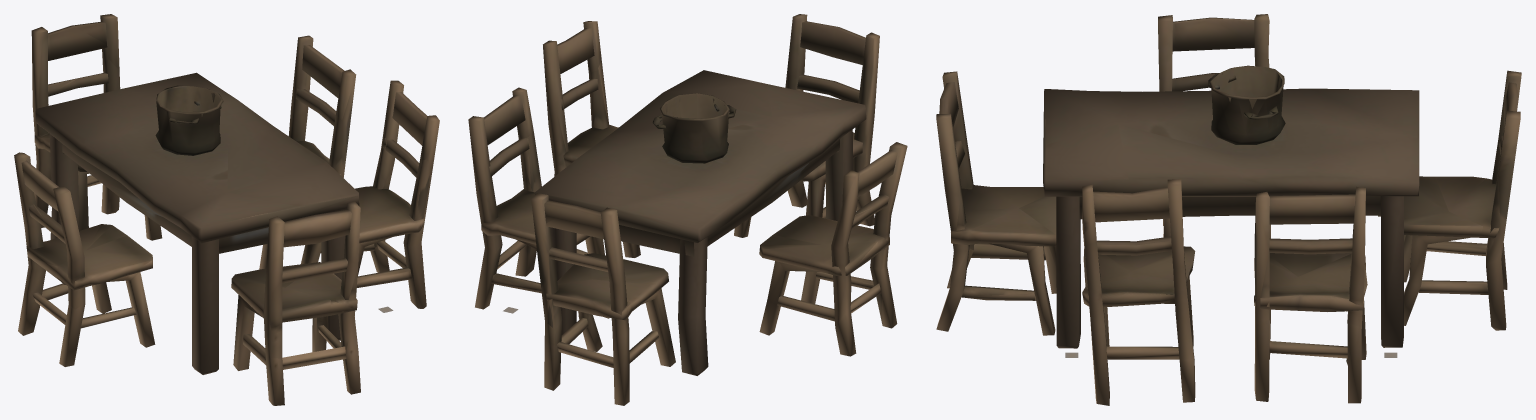
Rendered from dining_set.glb.
3 views of the same model, side by side, from view 1: azimuth 30°, elevation 25°; view 2: azimuth 150°, elevation 25°; view 3: azimuth 270°, elevation 25° (orthographic). The views are drawn at different scales.
Parts seen in each view (by area): view 1: dining_set_LOD0; view 2: dining_set_LOD0; view 3: dining_set_LOD0.
Part boxes in pixels (x1,y1,x2,y2): dining_set_LOD0: (14,14,439,405); dining_set_LOD0: (468,14,907,405); dining_set_LOD0: (936,14,1521,405).
Size of what is drawn, in the model's own units: 1.57 by 0.8757 by 2.
1 material, 1 textured.
